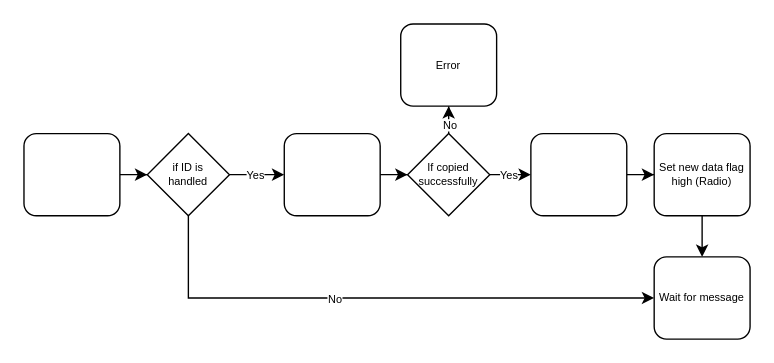
Some shapes in this 774 by 363 pixel diagram are drawn without their labels. Each missing label, with the centre of its shape:
Check ID: (x=71, y=174)
Copy data into shared data segment: (x=331, y=174)
Set new data flag high (SD): (x=578, y=174)
